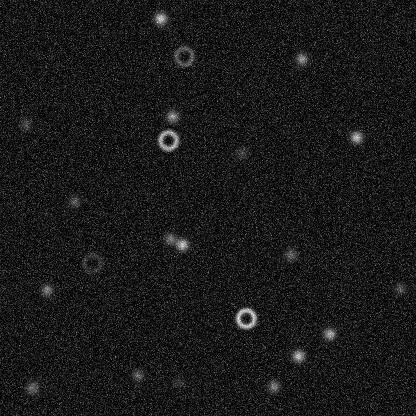Ring: (172, 44, 196, 68), (233, 306, 257, 330), (80, 251, 104, 275), (156, 128, 180, 152)
Spot: (391, 280, 407, 296), (162, 230, 178, 246), (265, 378, 281, 394), (348, 129, 364, 145), (129, 366, 145, 382), (293, 50, 309, 66), (38, 281, 54, 297), (66, 193, 82, 209), (174, 236, 190, 252), (17, 115, 33, 131), (152, 10, 168, 26), (233, 144, 249, 160), (321, 325, 337, 341), (164, 108, 180, 124), (282, 246, 298, 262), (170, 374, 186, 390), (24, 379, 40, 395), (290, 347, 306, 363)
